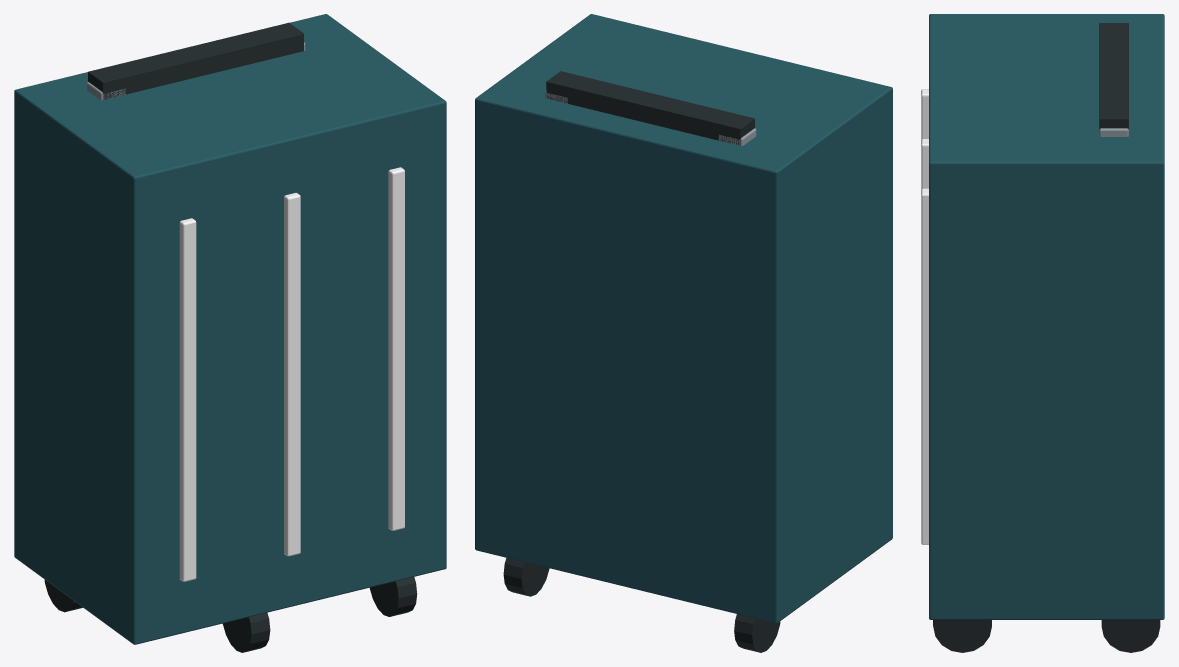
Rendered from source-edit.glb.
The picture shows the model from 3 angles, left to right: view 1: azimuth 30°, elevation 25°; view 2: azimuth 150°, elevation 25°; view 3: azimuth 270°, elevation 25°; orthographic projection. The views are drawn at different scales.
Visible parts, largest first — view 1: Shell, Grip, Shell_Rib, Shell_Rib.001, Shell_Rib.002, Caster.001, Caster.003; view 2: Shell, Grip, Caster.002, Caster; view 3: Shell, Grip, Shell_Rib.002, Caster, Caster.003, Shell_Rib.001, Shell_Rib.
Boxes of the visible parts, bbox=[...] form: Shell: bbox=[14, 14, 446, 644]; Grip: bbox=[88, 22, 303, 99]; Shell_Rib: bbox=[179, 218, 196, 581]; Shell_Rib.001: bbox=[284, 193, 300, 556]; Shell_Rib.002: bbox=[388, 167, 404, 530]; Caster.001: bbox=[223, 613, 270, 652]; Caster.003: bbox=[369, 577, 417, 616]; Shell: bbox=[475, 14, 892, 623]; Grip: bbox=[546, 71, 754, 145]; Caster.002: bbox=[734, 614, 780, 652]; Caster: bbox=[503, 558, 549, 596]; Shell: bbox=[929, 14, 1164, 619]; Grip: bbox=[1099, 23, 1128, 129]; Shell_Rib.002: bbox=[921, 188, 928, 544]; Caster: bbox=[1101, 620, 1160, 652]; Caster.003: bbox=[933, 620, 991, 652]; Shell_Rib.001: bbox=[921, 139, 928, 189]; Shell_Rib: bbox=[921, 89, 928, 139].
Bounding box in the file's own units: 0.42 × 0.6825 × 0.289.
